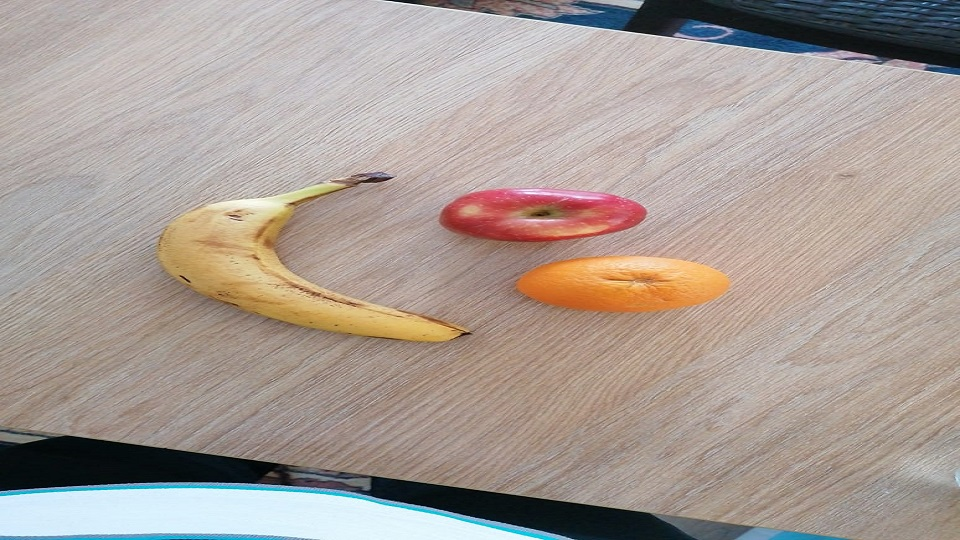elma: (439, 187, 649, 244)
muz: (156, 171, 467, 343)
portakal: (515, 254, 729, 314)
